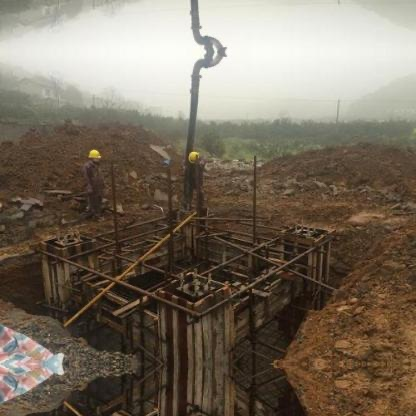Safety Helmet: (183, 148, 206, 170), (86, 144, 106, 164)
